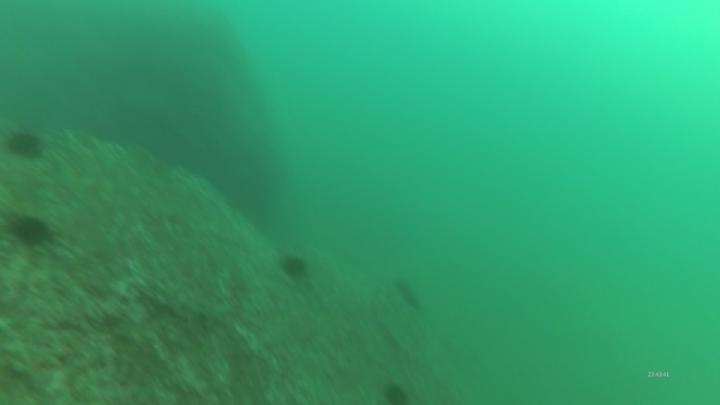echinus: (6, 210, 55, 249), (3, 126, 47, 163), (392, 275, 425, 313), (278, 251, 312, 283), (380, 380, 411, 405)
